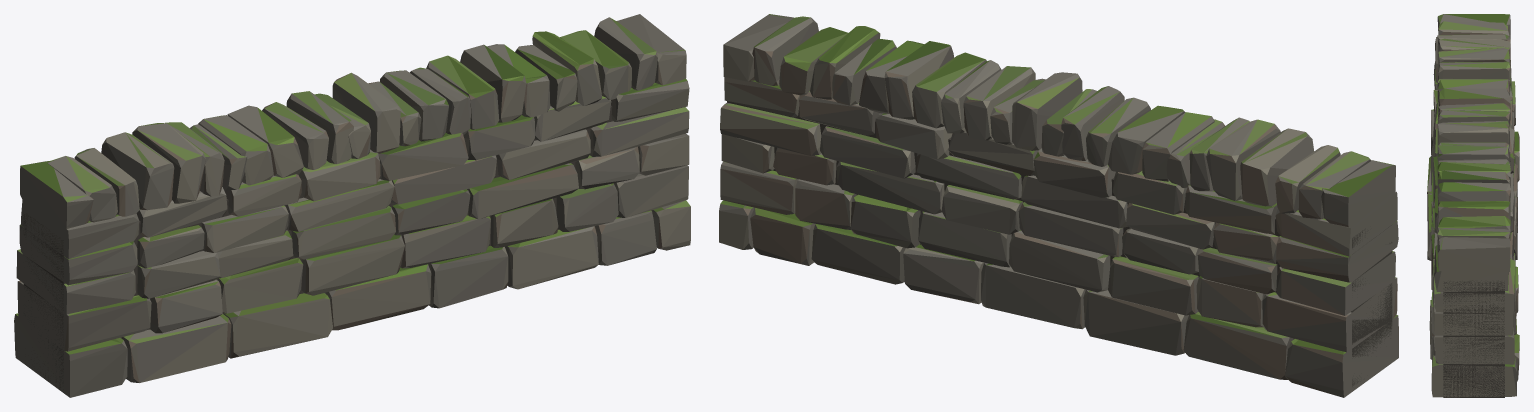
Rendered from wall_straight.glb.
3 renders of one model, left to right at view 1: azimuth 30°, elevation 25°; view 2: azimuth 150°, elevation 25°; view 3: azimuth 270°, elevation 25°, orthographic. The views are drawn at different scales.
Visible parts, largest first — view 1: orchard_wall_straight_Stone; view 2: orchard_wall_straight_Stone; view 3: orchard_wall_straight_Stone.
Boxes of the visible parts, <box> form: orchard_wall_straight_Stone: <box>14,14,690,397</box>; orchard_wall_straight_Stone: <box>719,14,1398,397</box>; orchard_wall_straight_Stone: <box>1427,14,1519,397</box>.
Bounding box in the file's own units: 4 × 1.29 × 0.6713.
